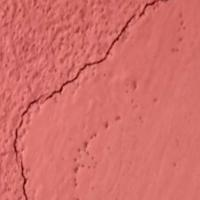crack: (8, 0, 155, 199)
